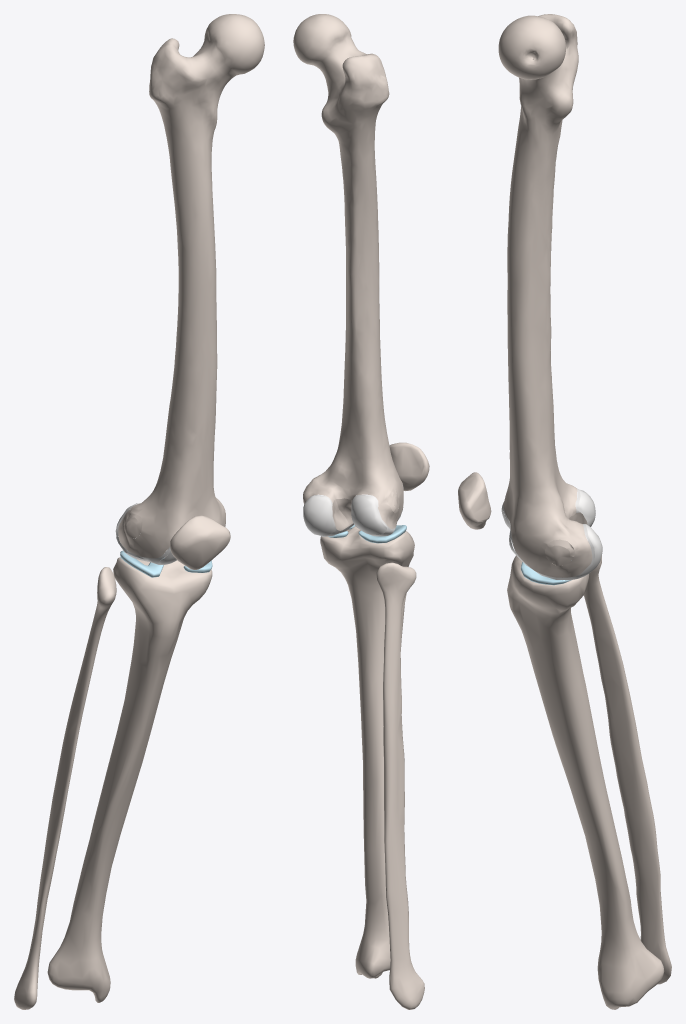
The model's file is leg_r.glb.
3 renders of one model, left to right at view 1: azimuth 30°, elevation 25°; view 2: azimuth 150°, elevation 25°; view 3: azimuth 270°, elevation 25°, orthographic. The views are drawn at different scales.
Visible parts, largest first — view 1: VH_M_femur_R, VH_M_tibia_R, VH_M_fibula_R, VH_M_patella_R, VH_M_meniscus_R; view 2: VH_M_femur_R, VH_M_tibia_R, VH_M_fibula_R, VH_M_patella_R, VH_M_medial_condyle_of_right_femur_inf, VH_M_lateral_condyle_of_femur_inf_R, VH_M_meniscus_R, VH_M_articular_cartilage_of_knee_R; view 3: VH_M_femur_R, VH_M_tibia_R, VH_M_fibula_R, VH_M_patella_R, VH_M_articular_cartilage_of_knee_R.
Boxes of the visible parts, left/top/right/bottom form: VH_M_femur_R: left=118, top=14, right=264, bottom=558; VH_M_tibia_R: left=47, top=553, right=212, bottom=1002; VH_M_fibula_R: left=14, top=567, right=116, bottom=1009; VH_M_patella_R: left=170, top=515, right=230, bottom=569; VH_M_meniscus_R: left=120, top=550, right=212, bottom=577; VH_M_femur_R: left=293, top=14, right=403, bottom=528; VH_M_tibia_R: left=320, top=526, right=414, bottom=978; VH_M_fibula_R: left=376, top=562, right=424, bottom=1009; VH_M_patella_R: left=389, top=442, right=429, bottom=491; VH_M_medial_condyle_of_right_femur_inf: left=303, top=495, right=336, bottom=535; VH_M_lateral_condyle_of_femur_inf_R: left=351, top=495, right=386, bottom=534; VH_M_meniscus_R: left=328, top=524, right=406, bottom=543; VH_M_articular_cartilage_of_knee_R: left=315, top=484, right=403, bottom=536; VH_M_femur_R: left=498, top=14, right=592, bottom=577; VH_M_tibia_R: left=507, top=555, right=664, bottom=1009; VH_M_fibula_R: left=583, top=542, right=671, bottom=984; VH_M_patella_R: left=458, top=472, right=491, bottom=529; VH_M_articular_cartilage_of_knee_R: left=502, top=489, right=594, bottom=580.
Size of the model in its own units: 0.1734 by 0.8875 by 0.1646.
